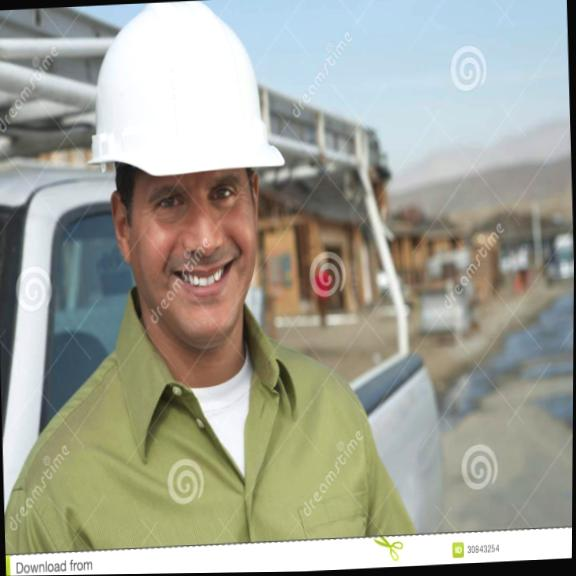no_safety_vest: (17, 323, 412, 555)
